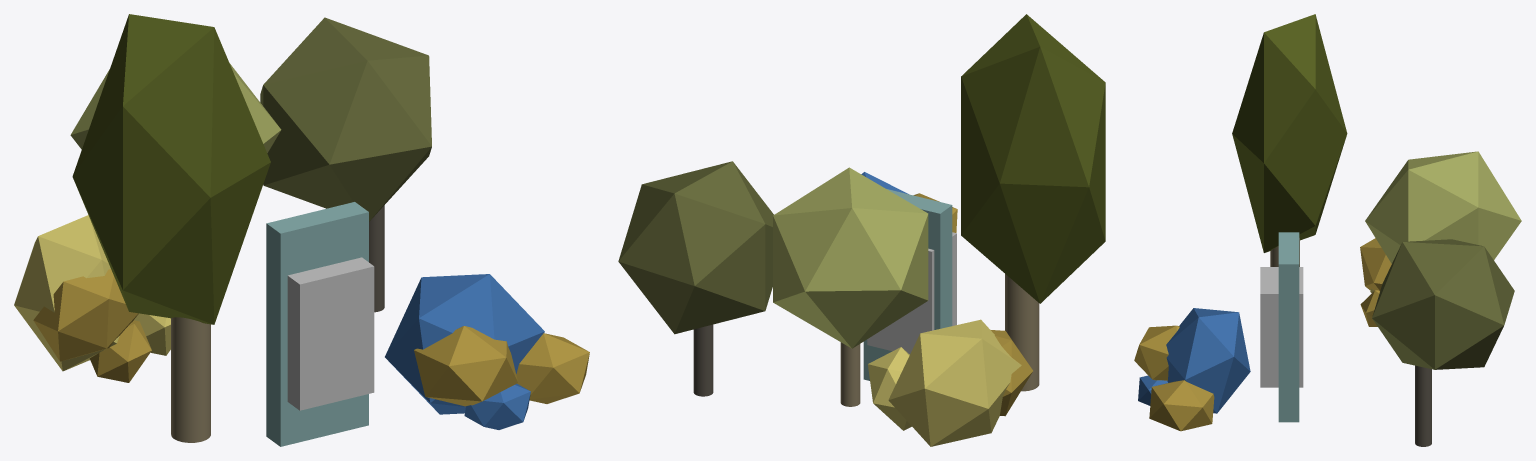
Rendered from SM_house_4-3.fbx.
The picture shows the model from 3 angles, left to right: view 1: azimuth 30°, elevation 25°; view 2: azimuth 150°, elevation 25°; view 3: azimuth 270°, elevation 25°; orthographic projection. The views are drawn at different scales.
Parts seen in each view (by area): view 1: polySurface179; view 2: polySurface179; view 3: polySurface179.
Boxes of the visible parts, left/top/right/bottom form: polySurface179: left=14, top=14, right=589, bottom=446; polySurface179: left=618, top=14, right=1105, bottom=446; polySurface179: left=1134, top=14, right=1521, bottom=446.
Size of the model in its own units: 373 by 363 by 386.
